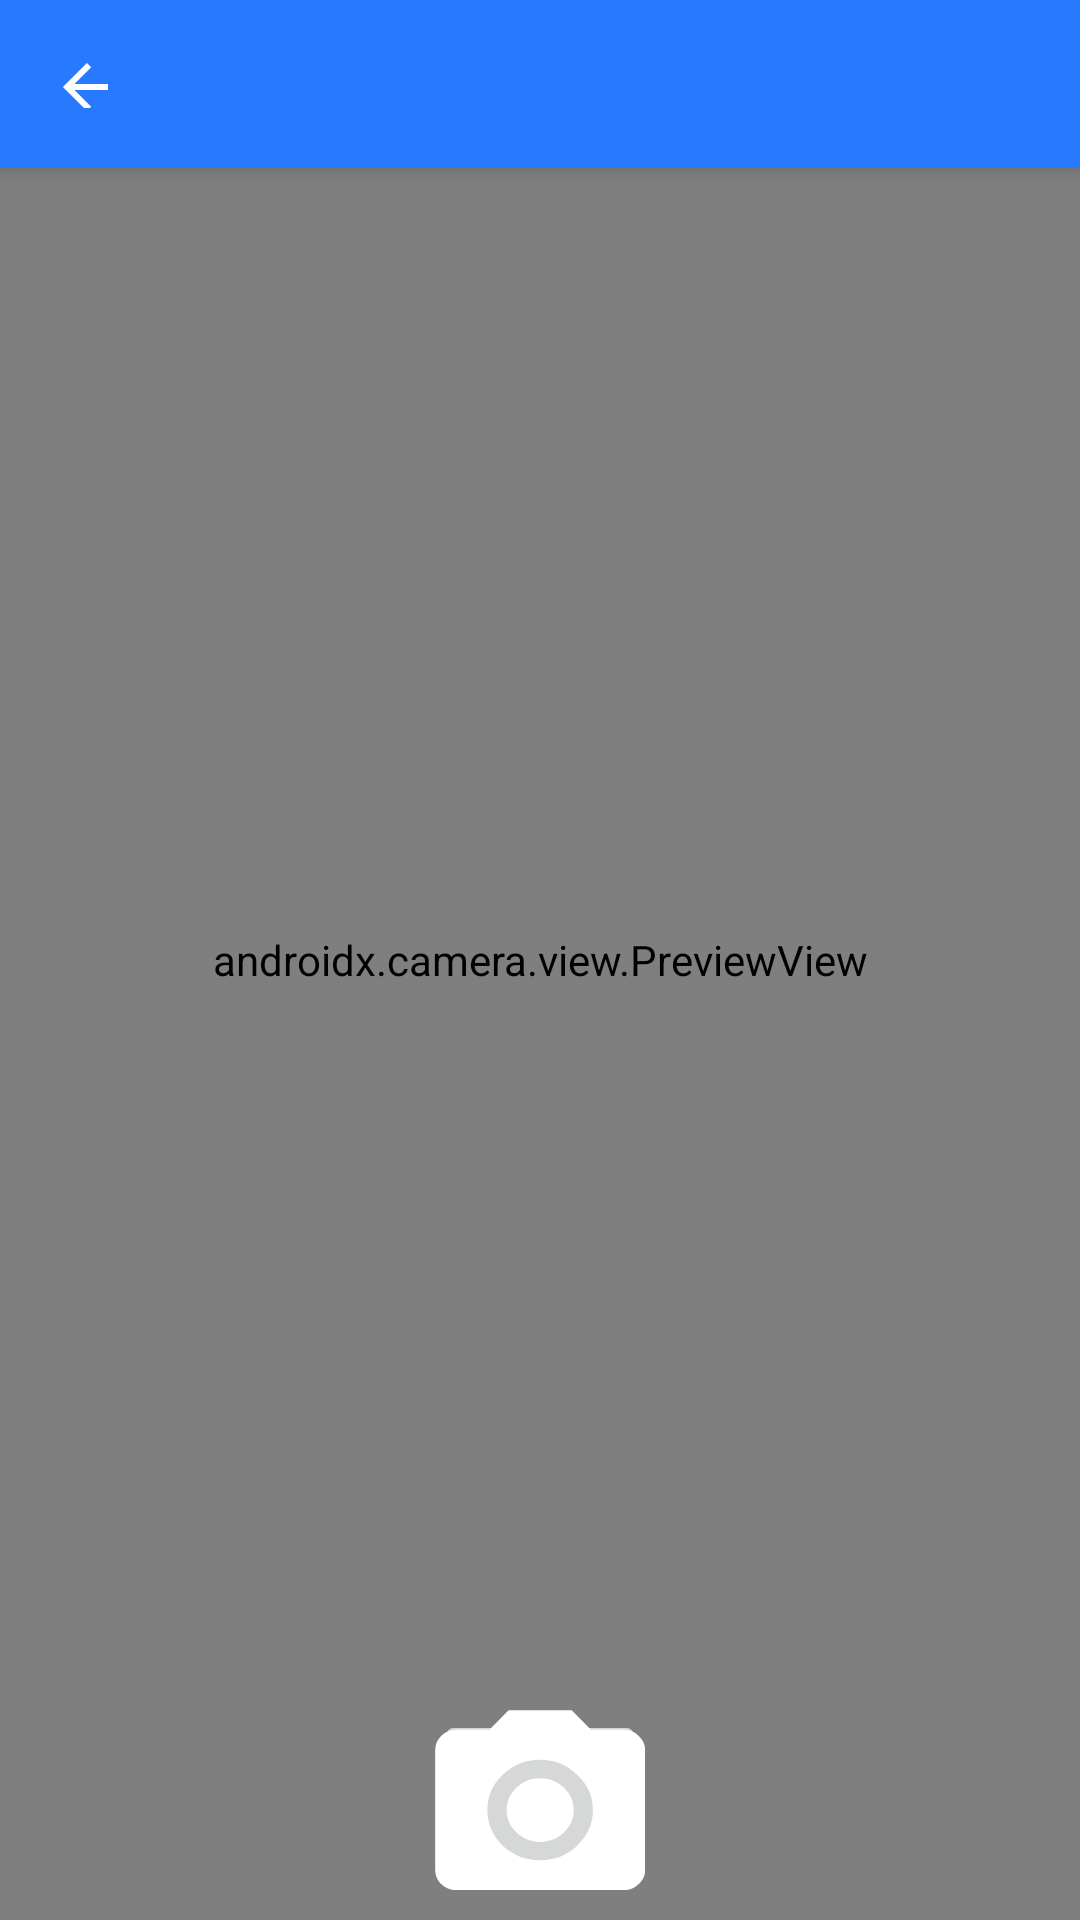

Where to tap for icons on this 1080x1920 app screen, as (x=x, y=y):
Capture: (x=540, y=1800)
